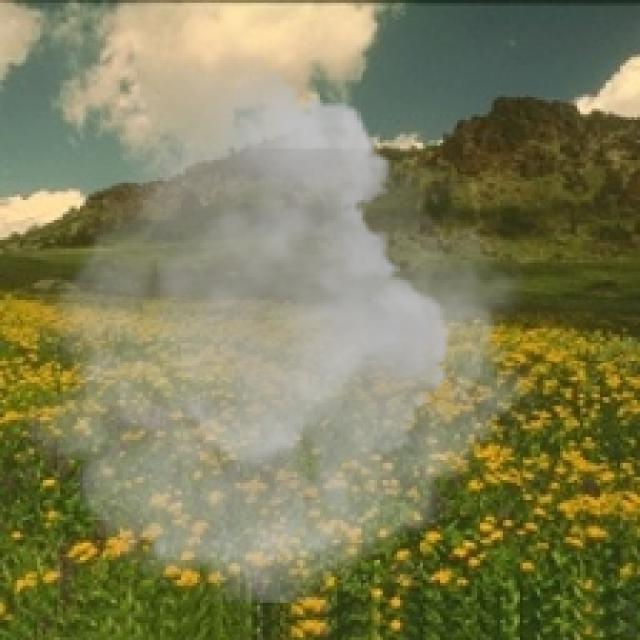Smoke: (17, 57, 546, 603)
